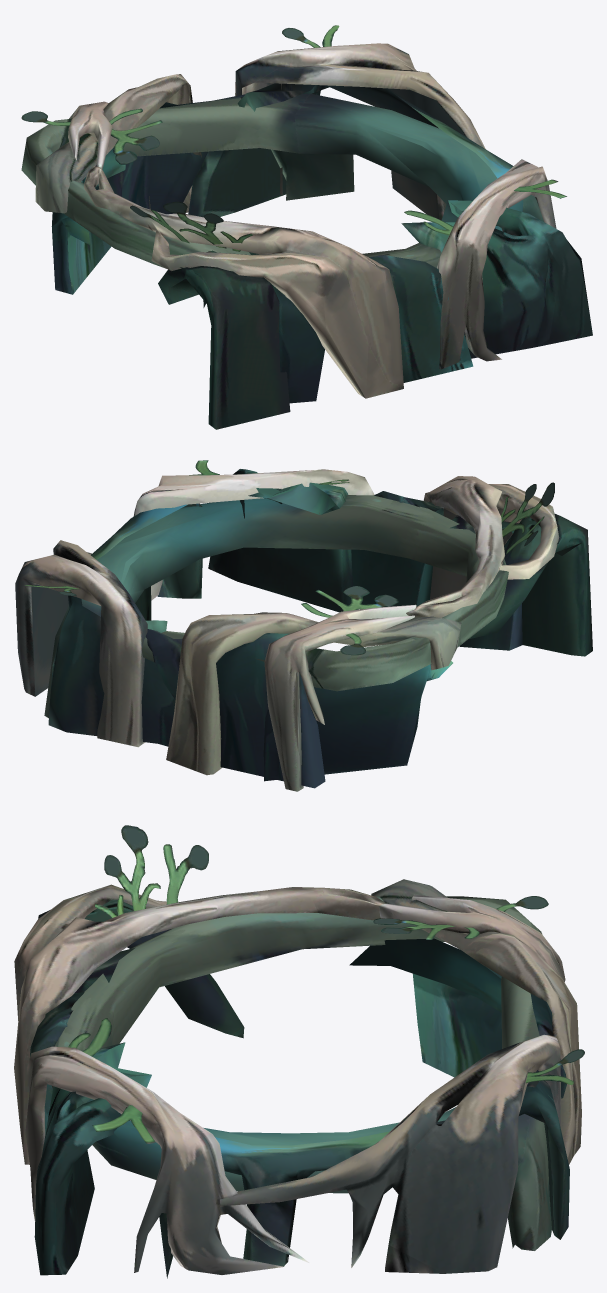
File: trap_skin_shruin_default (merge).fbx
The picture shows the model from 3 angles, top to bottom: view 1: azimuth 30°, elevation 25°; view 2: azimuth 150°, elevation 25°; view 3: azimuth 270°, elevation 25°; orthographic projection. The views are drawn at different scales.
Parts seen in each view (by area): view 1: trap_skin_shruin_default; view 2: trap_skin_shruin_default; view 3: trap_skin_shruin_default.
Part boxes in pixels (left/top/right/bottom): trap_skin_shruin_default: left=21, top=25, right=592, bottom=429; trap_skin_shruin_default: left=15, top=460, right=592, bottom=791; trap_skin_shruin_default: left=14, top=825, right=584, bottom=1278.
Bounding box in the file's own units: 1.07 × 0.5214 × 1.07.
Materials: 1 (1 with a texture image).
